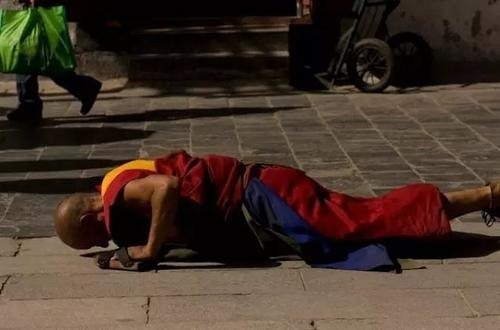falling: (55, 145, 493, 279)
